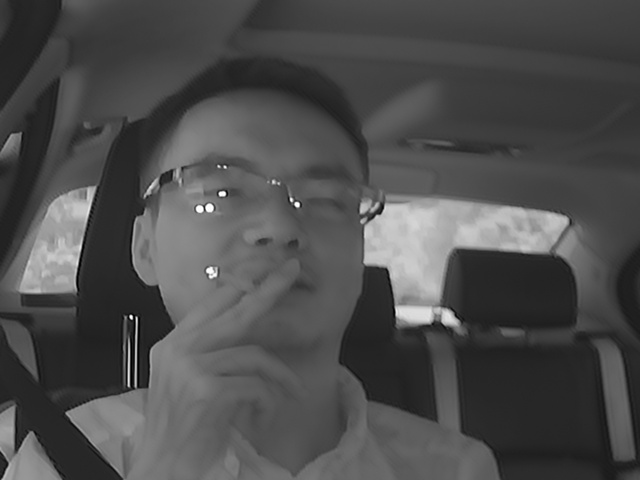hand: (155, 260, 312, 438)
